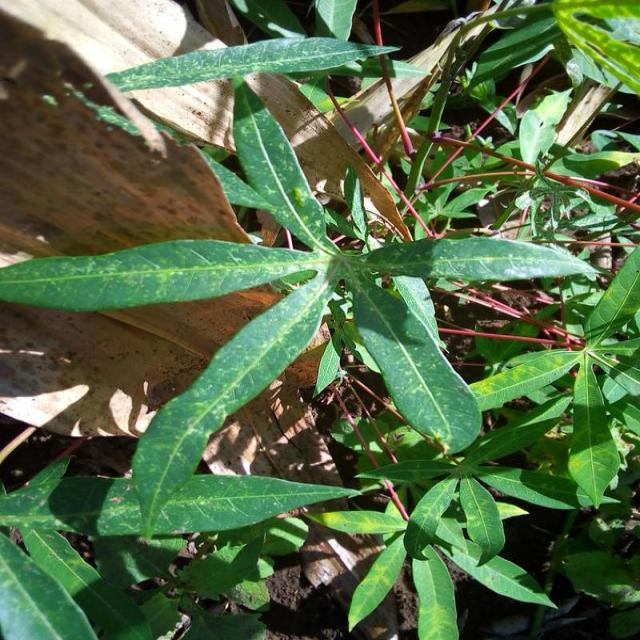cassava leaf: (2, 65, 600, 541), (341, 254, 484, 455), (103, 34, 403, 95)
